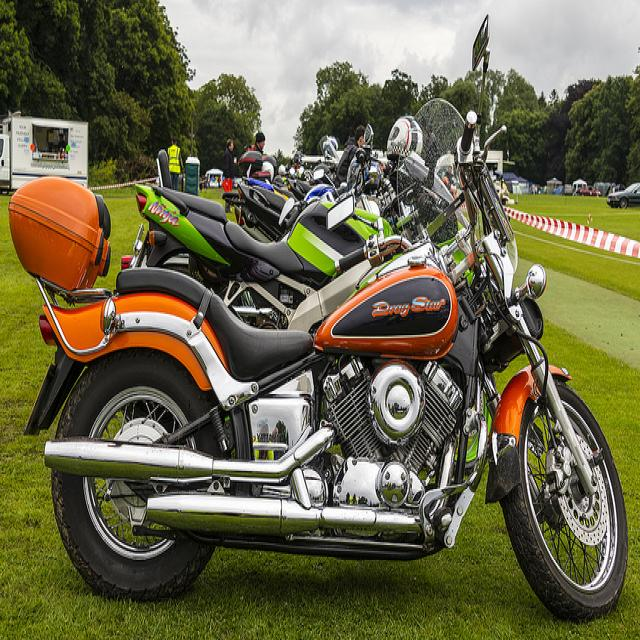motor: (9, 119, 635, 624), (128, 180, 376, 313), (242, 124, 373, 200), (224, 163, 347, 235), (240, 152, 313, 193), (332, 124, 372, 184)
